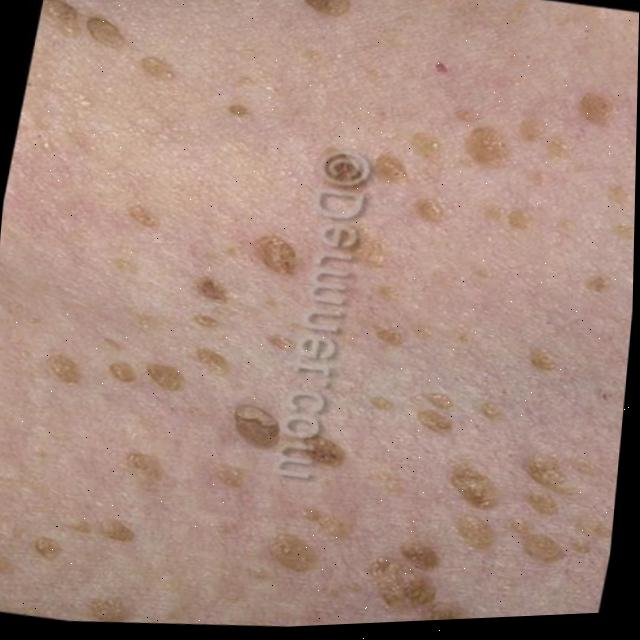Eczema: (31, 0, 613, 638)
